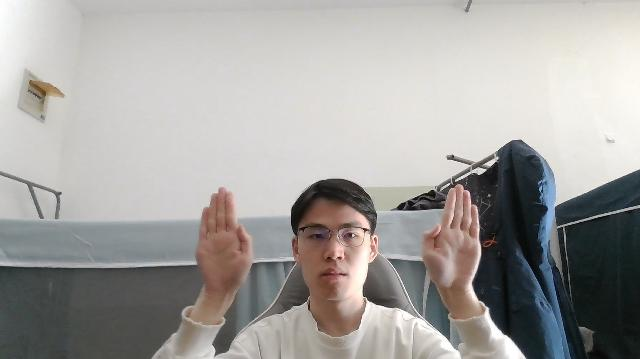five: (421, 184, 482, 289), (197, 187, 254, 289)
